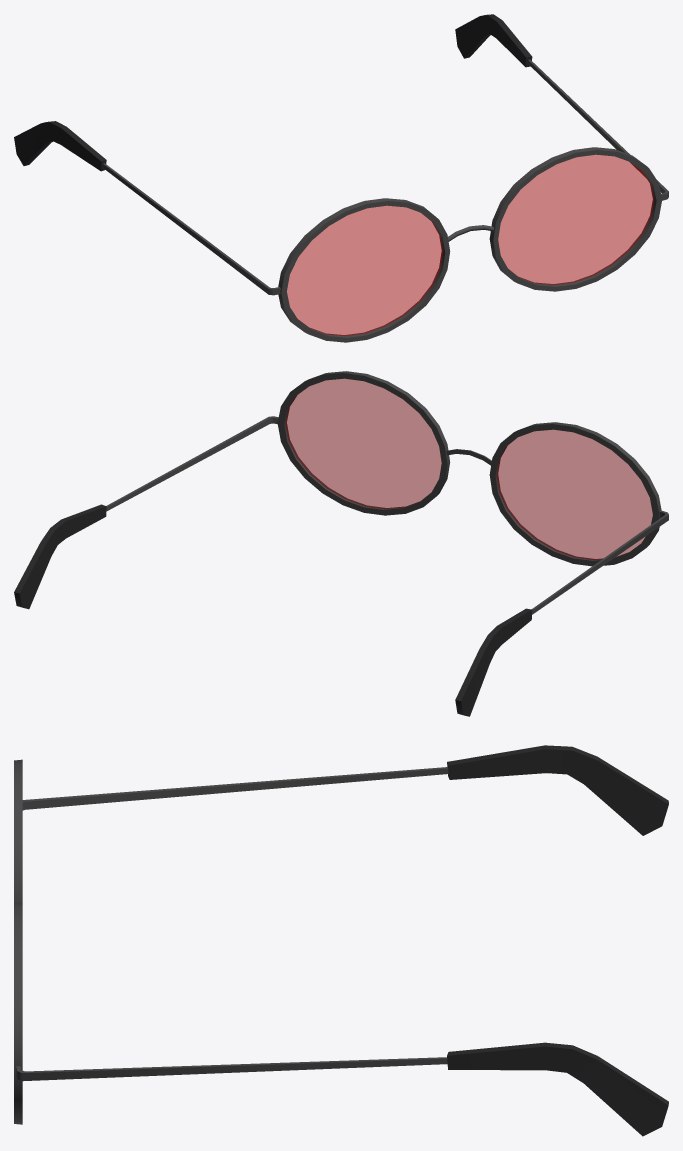
The model's file is OvalSunglasses.fbx.
3 views of the same model, one above another, from view 1: azimuth 30°, elevation 25°; view 2: azimuth 150°, elevation 25°; view 3: azimuth 270°, elevation 25° (orthographic). The views are drawn at different scales.
Parts seen in each view (by area): view 1: OvalSunglasses; view 2: OvalSunglasses; view 3: OvalSunglasses.
Boxes of the visible parts, bbox=[...] form: OvalSunglasses: bbox=[14, 14, 668, 342]; OvalSunglasses: bbox=[14, 371, 668, 716]; OvalSunglasses: bbox=[14, 745, 668, 1136].
Bounding box in the file's own units: 71.6 × 20.99 × 65.01.
